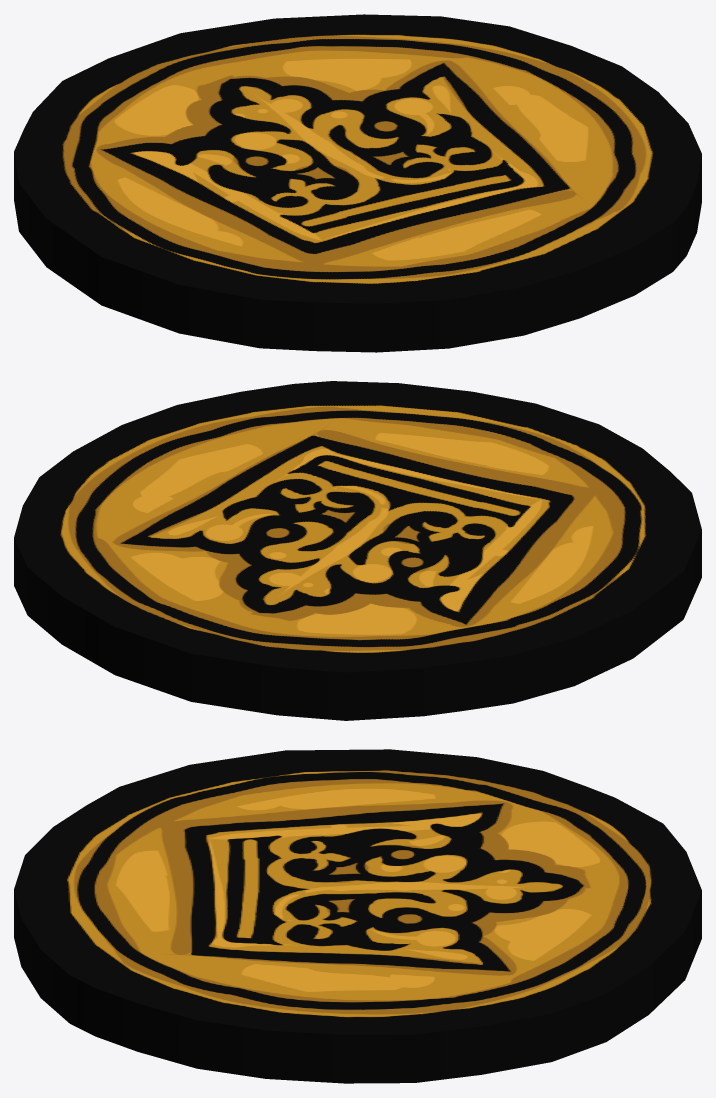
The model's file is Coin.fbx.
3 views of the same model, one above another, from view 1: azimuth 30°, elevation 25°; view 2: azimuth 150°, elevation 25°; view 3: azimuth 270°, elevation 25° (orthographic).
Visible parts, largest first — view 1: Coin; view 2: Coin; view 3: Coin.
Part boxes in pixels (x1,y1,x2,y2): Coin: [14, 14, 701, 352]; Coin: [14, 381, 701, 720]; Coin: [14, 749, 701, 1083].
Size of the model in its own units: 1.14 by 0.09 by 1.16.
